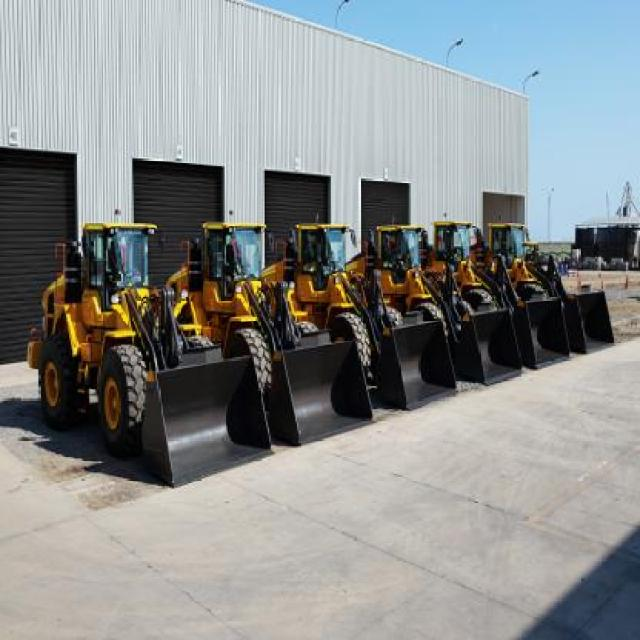buldozerpayloadergrader: (21, 197, 281, 501)
